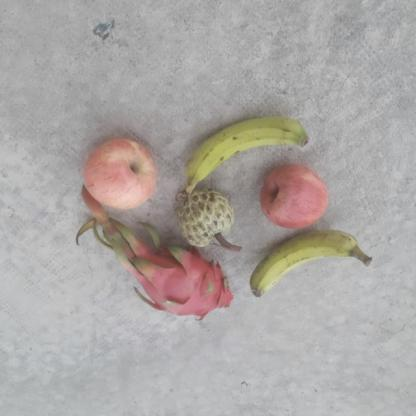annona: (176, 189, 235, 247)
apple: (82, 134, 158, 210), (259, 163, 331, 230)
banana: (250, 229, 372, 300), (184, 118, 312, 185)
pitaya: (143, 249, 232, 320)
